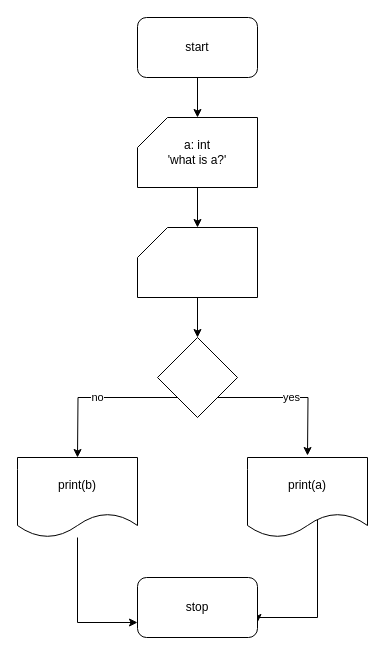
Some shapes in this 385 by 655 pixel diagram are drawn without their labels. Each missing label, with the centre of its shape:
"a>b" belongs at (197,377).
"b: int 'what is b?'" belongs at (197,262).
